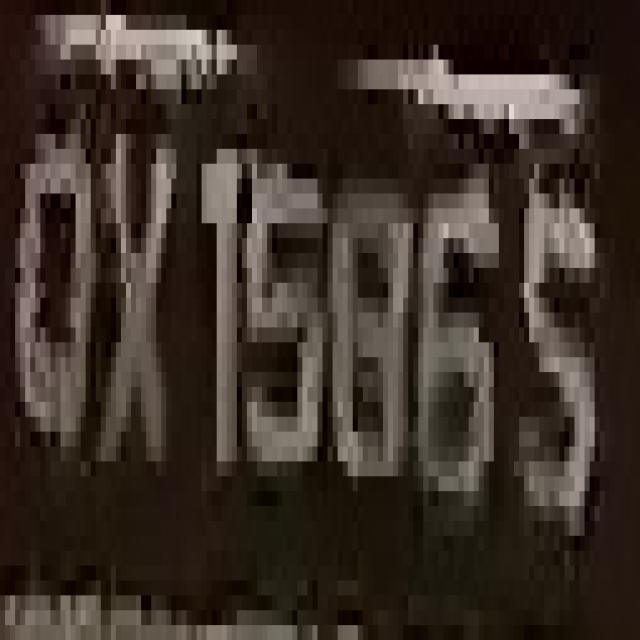1: (191, 119, 242, 506)
5: (227, 149, 317, 476)
6: (408, 164, 499, 566)
8: (307, 164, 408, 566)
Q: (5, 104, 101, 521)
S: (514, 149, 610, 565)
X: (96, 89, 176, 536)
